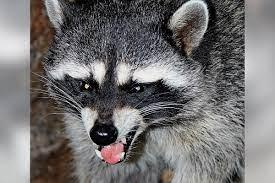raccoon: (24, 0, 260, 183)
